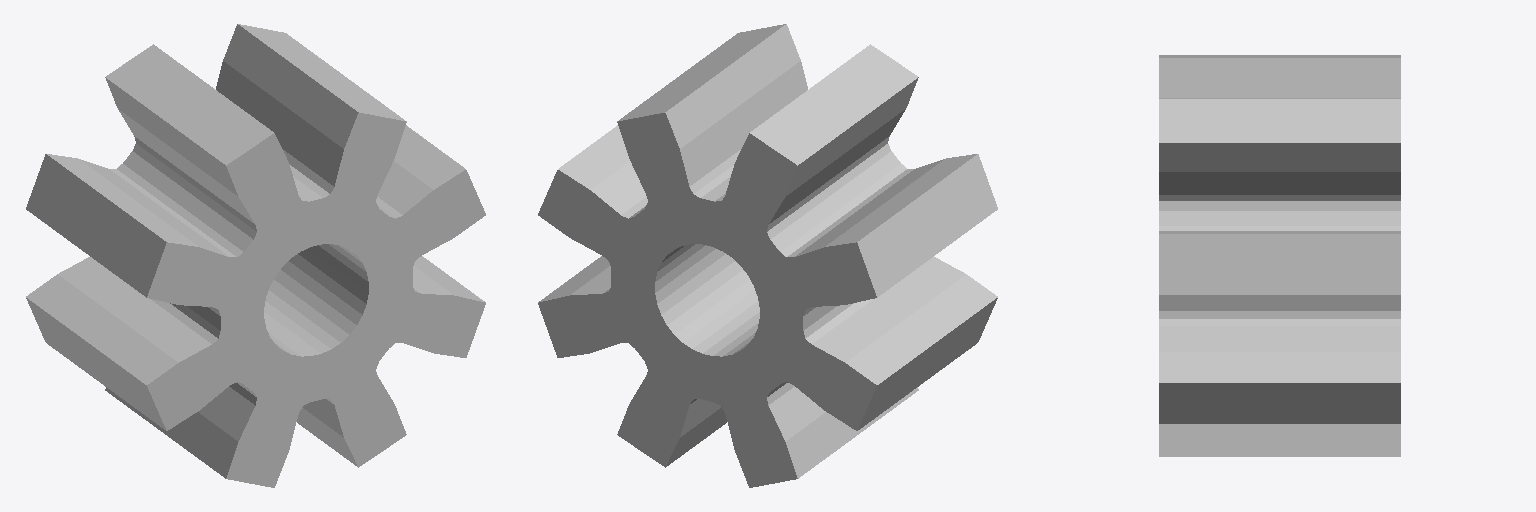
File: eight.obj
3 renders of one model, left to right at view 1: azimuth 30°, elevation 25°; view 2: azimuth 150°, elevation 25°; view 3: azimuth 270°, elevation 25°, orthographic.
Size of the model in its own units: 48.54 by 48.54 by 30.